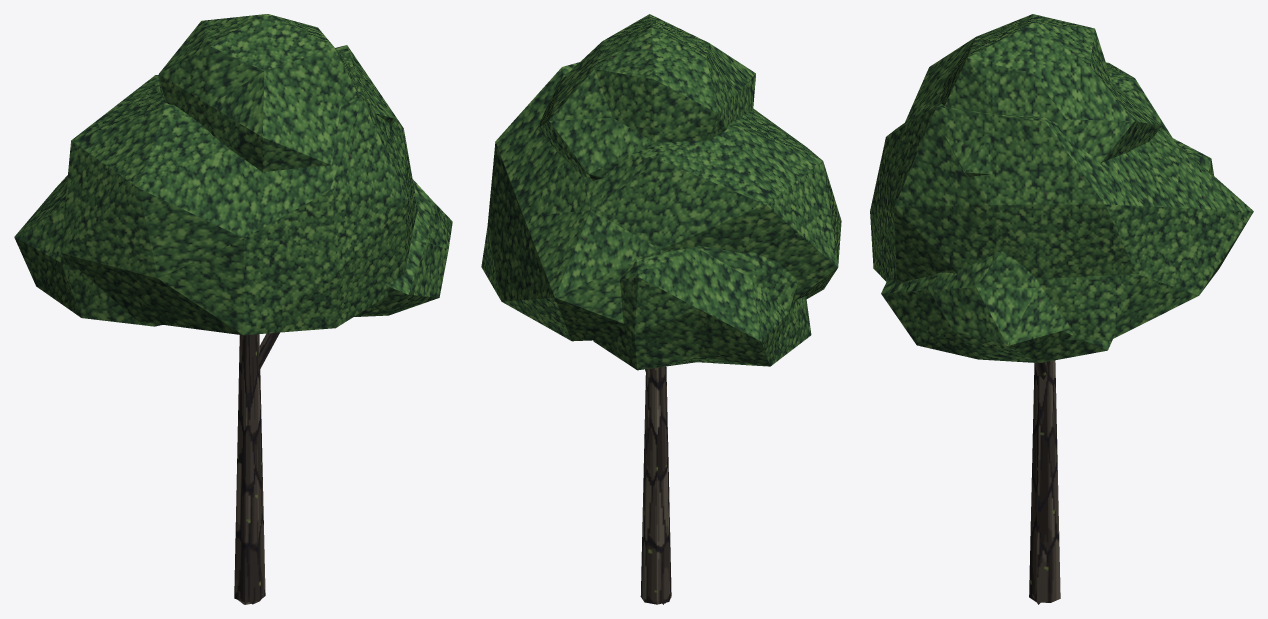
Rendered from VG_Tree_DeciduousSmall.obj.
3 views of the same model, side by side, from view 1: azimuth 30°, elevation 25°; view 2: azimuth 150°, elevation 25°; view 3: azimuth 270°, elevation 25° (orthographic). The views are drawn at different scales.
Parts seen in each view (by area): view 1: VG_Tree_DeciduousSmall_Mesh_M_Grnd_HedgeFoliage, VG_Tree_DeciduousSmall_Mesh_M_Grnd_TreeBark; view 2: VG_Tree_DeciduousSmall_Mesh_M_Grnd_HedgeFoliage, VG_Tree_DeciduousSmall_Mesh_M_Grnd_TreeBark; view 3: VG_Tree_DeciduousSmall_Mesh_M_Grnd_HedgeFoliage, VG_Tree_DeciduousSmall_Mesh_M_Grnd_TreeBark.
Boxes of the visible parts, x1,y1,x2,y2 form: VG_Tree_DeciduousSmall_Mesh_M_Grnd_HedgeFoliage: (14,14,452,335); VG_Tree_DeciduousSmall_Mesh_M_Grnd_TreeBark: (234,332,279,604); VG_Tree_DeciduousSmall_Mesh_M_Grnd_HedgeFoliage: (481,14,841,370); VG_Tree_DeciduousSmall_Mesh_M_Grnd_TreeBark: (640,366,671,604); VG_Tree_DeciduousSmall_Mesh_M_Grnd_HedgeFoliage: (870,14,1253,362); VG_Tree_DeciduousSmall_Mesh_M_Grnd_TreeBark: (1029,360,1060,604).
Bounding box in the file's own units: 3.42 × 5.16 × 3.07.
2 materials, 2 textured.
